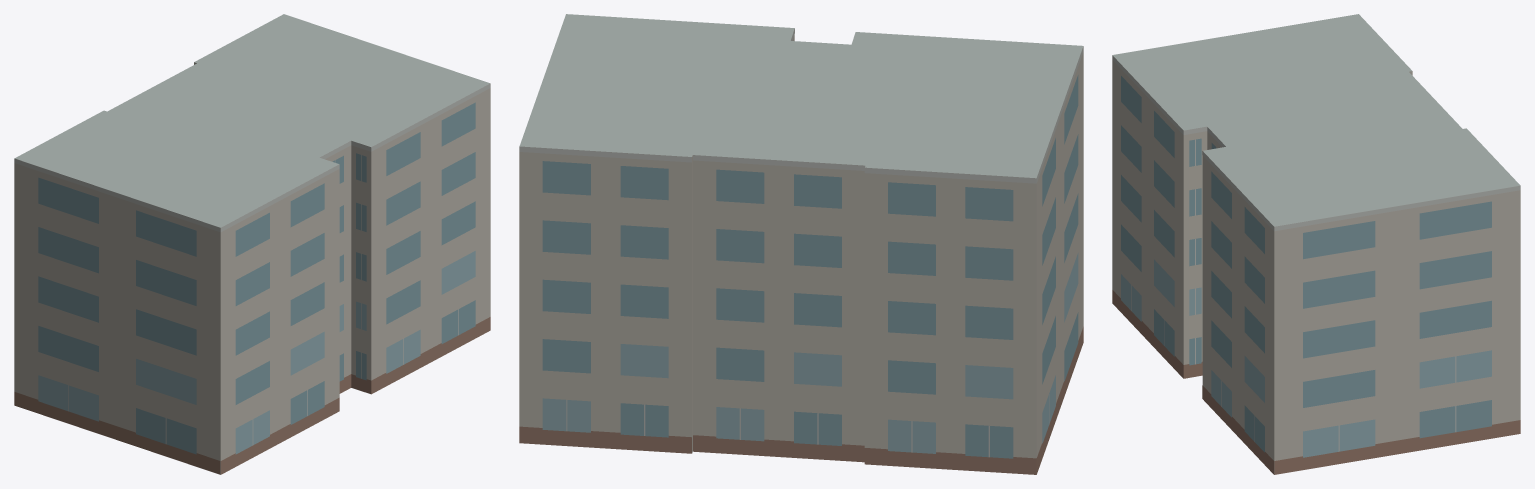
The model's file is survey-upis-32882028.glb.
3 renders of one model, left to right at view 1: azimuth 30°, elevation 25°; view 2: azimuth 150°, elevation 25°; view 3: azimuth 270°, elevation 25°, orthographic. The views are drawn at different scales.
Visible parts, largest first — view 1: survey-upis-32882028.tmp; view 2: survey-upis-32882028.tmp; view 3: survey-upis-32882028.tmp.
Part boxes in pixels (bbox=[...]): survey-upis-32882028.tmp: bbox=[14, 14, 490, 474]; survey-upis-32882028.tmp: bbox=[519, 14, 1083, 474]; survey-upis-32882028.tmp: bbox=[1112, 14, 1520, 474].
Size of the model in its own units: 24.37 by 13.25 by 19.77.
